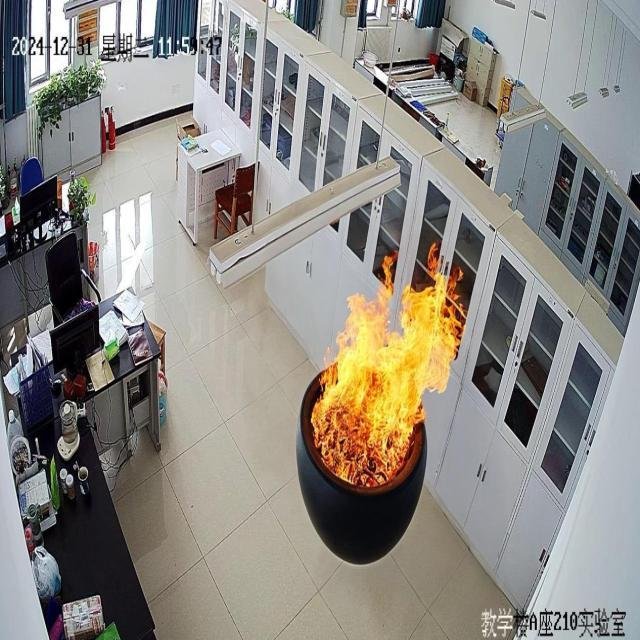smoke: (311, 246, 462, 486)
